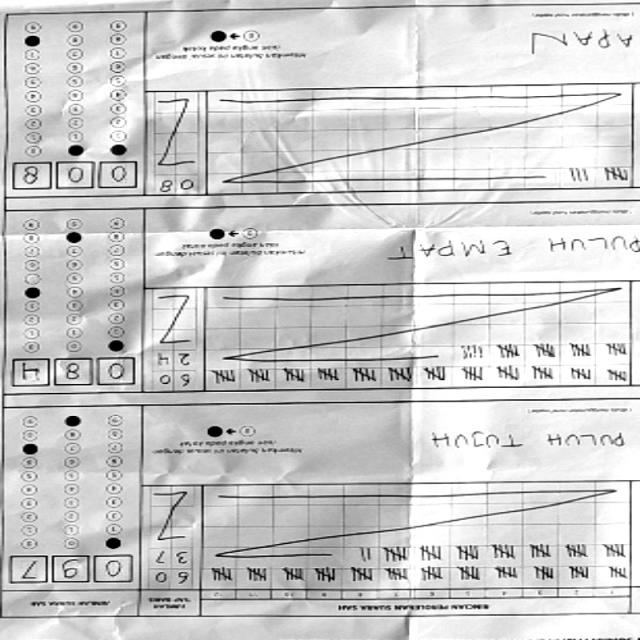Suara: (11, 156, 146, 196), (5, 551, 139, 591), (6, 352, 140, 392)
